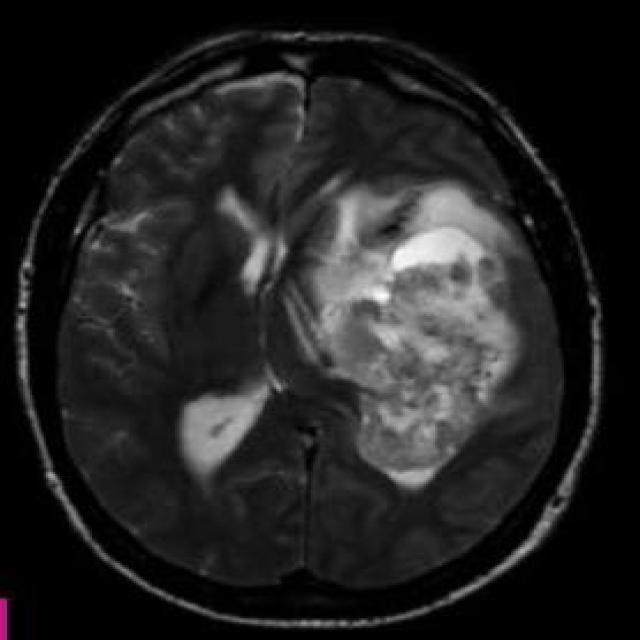Tumor-Cell: (344, 202, 518, 458)
